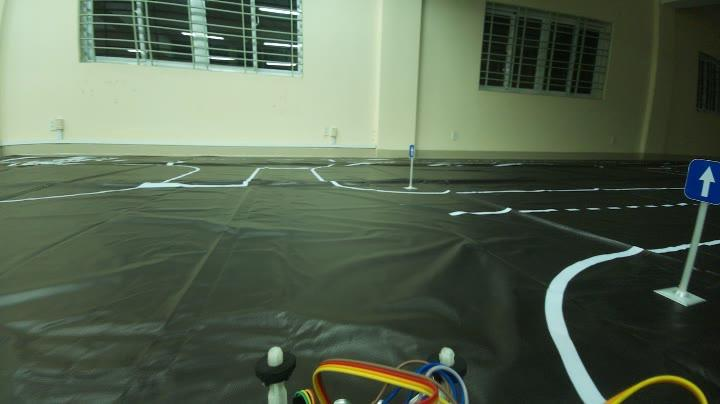onewayroad: (675, 151, 720, 208), (399, 137, 422, 160)
